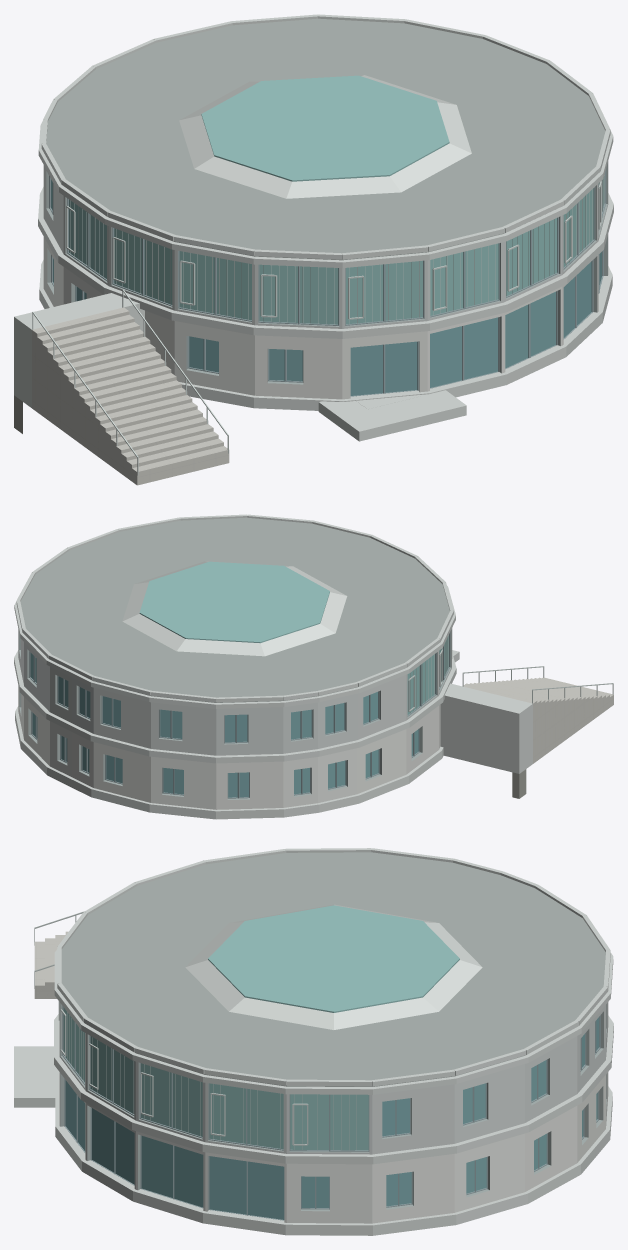
The picture shows the model from 3 angles, top to bottom: view 1: azimuth 30°, elevation 25°; view 2: azimuth 150°, elevation 25°; view 3: azimuth 270°, elevation 25°; orthographic projection. The views are drawn at different scales.
Visible parts, largest first — view 1: bi-2__roofSlab, bi-2__upperCurvedPanelsGlass, bi-2__longLeftStair, bi-2__roofLightTop, bi-2__leftLowerWhiteWalls, bi-2__roofCoping, bi-2__lowerCurvedGlassWallGlass, bi-2__shallowRoofCap, bi-2__whiteMidStoreyBand, bi-2__continuousBaseSill, bi-2__whiteRoofRim, bi-2__upperFinePanelRibs (+15 smaller); view 2: bi-2__roofSlab, bi-2__estimatedLowerRear, bi-2__estimatedRearUpper, bi-2__roofLightTop, bi-2__upperStairLanding, bi-2__longLeftStair, bi-2__roofCoping, bi-2__continuousBaseSill, bi-2__shallowRoofCap, bi-2__whiteMidStoreyBand, bi-2__estimatedRearUpperGlass, bi-2__whiteRoofRim (+7 smaller); view 3: bi-2__roofSlab, bi-2__roofLightTop, bi-2__estimatedLowerRear, bi-2__upperCurvedPanelsGlass, bi-2__estimatedRearUpper, bi-2__lowerCurvedGlassWallGlass, bi-2__continuousBaseSill, bi-2__roofCoping, bi-2__shallowRoofCap, bi-2__whiteMidStoreyBand, bi-2__whiteRoofRim, bi-2__estimatedLowerRearGlass (+15 smaller).
Boxes of the visible parts, x1,y1,x2,y2 form: bi-2__roofSlab: [46, 18, 605, 260]; bi-2__upperCurvedPanelsGlass: [69, 176, 604, 324]; bi-2__longLeftStair: [32, 307, 229, 485]; bi-2__roofLightTop: [201, 75, 449, 181]; bi-2__leftLowerWhiteWalls: [145, 310, 342, 399]; bi-2__roofCoping: [41, 14, 610, 259]; bi-2__lowerCurvedGlassWallGlass: [430, 252, 601, 387]; bi-2__shallowRoofCap: [179, 75, 471, 198]; bi-2__whiteMidStoreyBand: [38, 187, 613, 338]; bi-2__continuousBaseSill: [39, 260, 612, 410]; bi-2__whiteRoofRim: [38, 120, 613, 268]; bi-2__upperFinePanelRibs: [70, 175, 604, 324]; bi-2__roofSlab: [20, 517, 449, 702]; bi-2__estimatedLowerRear: [18, 686, 438, 809]; bi-2__estimatedRearUpper: [18, 629, 406, 755]; bi-2__roofLightTop: [139, 561, 329, 643]; bi-2__upperStairLanding: [440, 683, 532, 773]; bi-2__longLeftStair: [463, 677, 613, 763]; bi-2__roofCoping: [16, 514, 453, 702]; bi-2__continuousBaseSill: [15, 706, 443, 819]; bi-2__shallowRoofCap: [122, 561, 347, 656]; bi-2__whiteMidStoreyBand: [14, 650, 456, 763]; bi-2__estimatedRearUpperGlass: [30, 653, 377, 742]; bi-2__whiteRoofRim: [14, 586, 455, 708]; bi-2__roofSlab: [61, 852, 605, 1086]; bi-2__roofLightTop: [208, 905, 459, 1012]; bi-2__estimatedLowerRear: [286, 1072, 608, 1223]; bi-2__upperCurvedPanelsGlass: [63, 1007, 368, 1150]; bi-2__estimatedRearUpper: [372, 1002, 608, 1154]; bi-2__lowerCurvedGlassWallGlass: [65, 1080, 284, 1219]; bi-2__continuousBaseSill: [55, 1083, 612, 1235]; bi-2__roofCoping: [57, 848, 610, 1086]; bi-2__shallowRoofCap: [185, 904, 482, 1029]; bi-2__whiteMidStoreyBand: [54, 1014, 613, 1164]; bi-2__whiteRoofRim: [54, 949, 613, 1094]; bi-2__estimatedLowerRearGlass: [301, 1093, 597, 1207].
Bounding box in the file's own units: 32.27 × 10.22 × 29.06.
12 materials, 1 textured.
